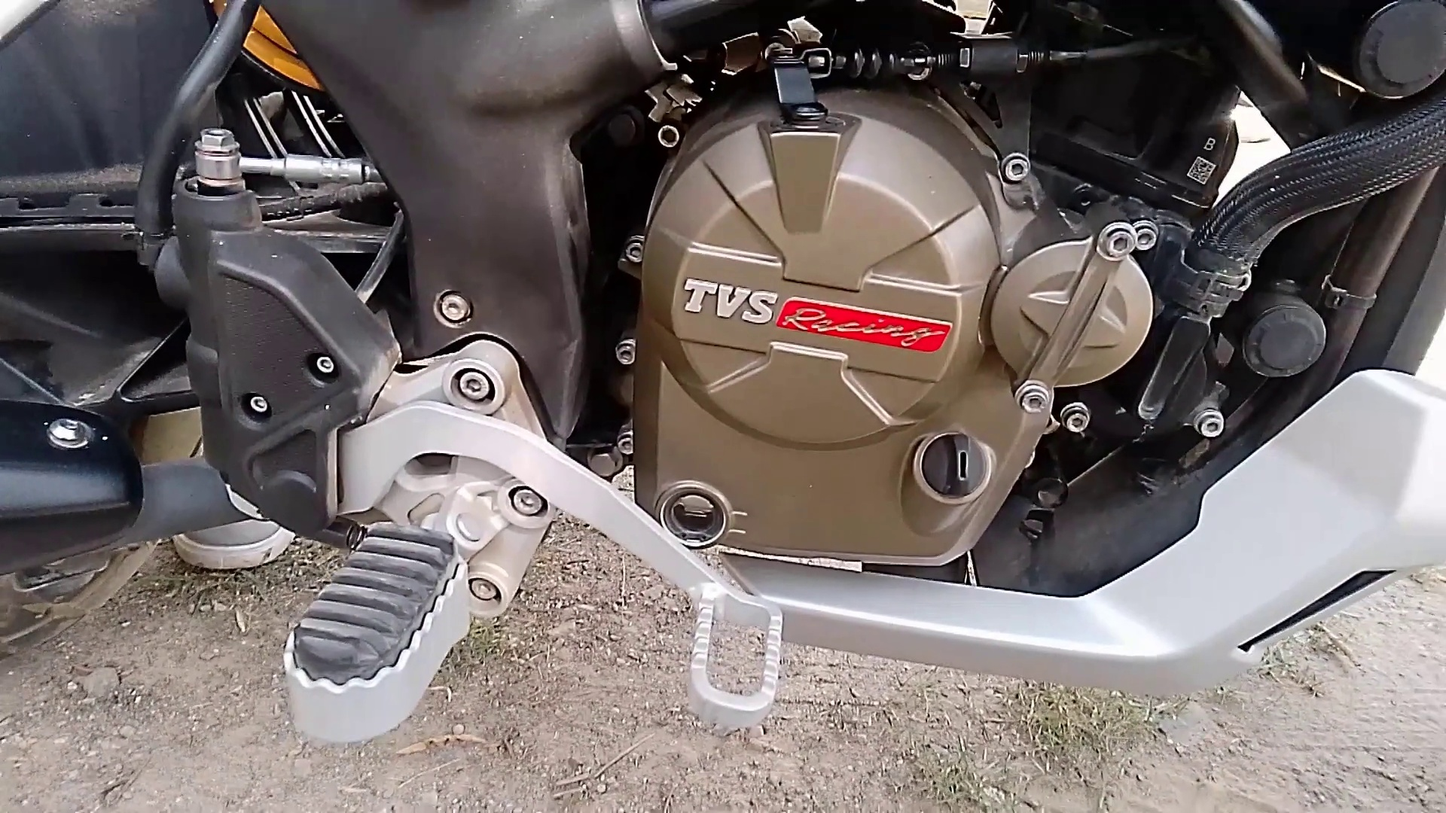engine: (614, 28, 1207, 593)
oil_cap: (904, 412, 1002, 519)
oil_marker: (640, 463, 768, 565)
